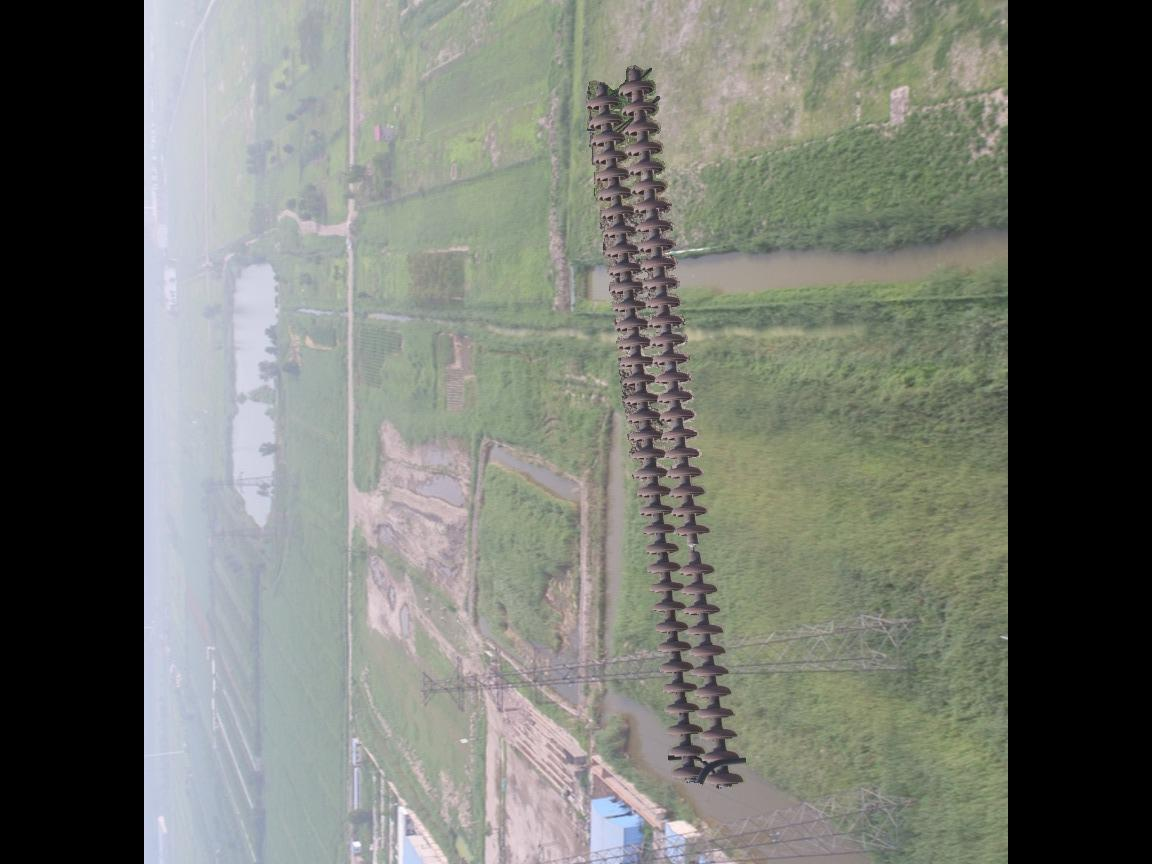insulator: (580, 69, 748, 795)
insulator_stringdrop: (671, 521, 719, 581)
